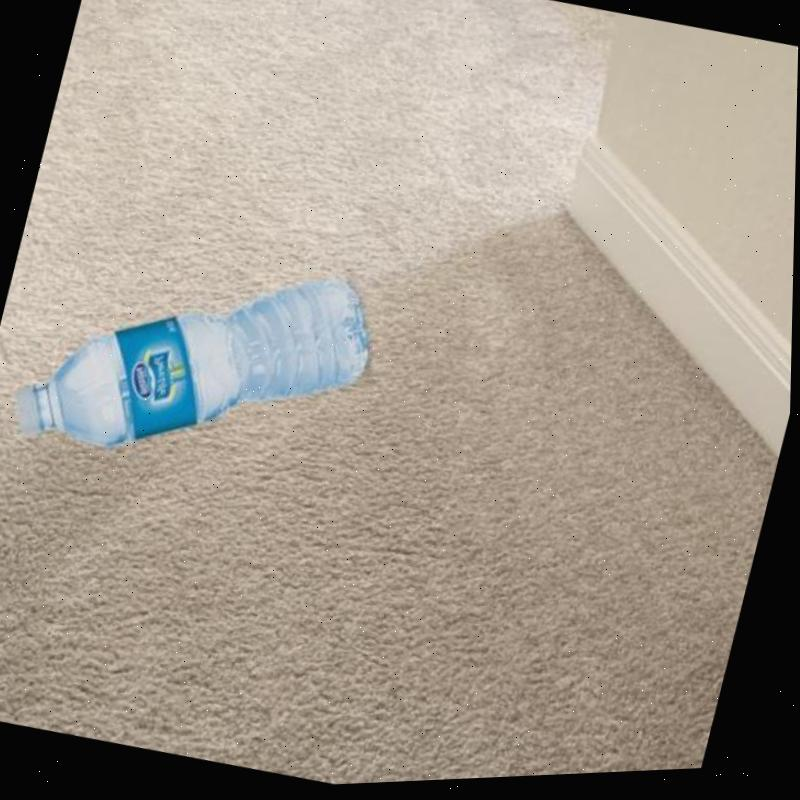botella: (0, 213, 389, 510)
